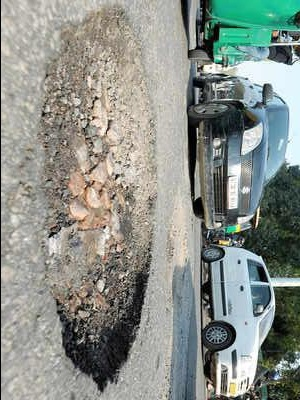pothole: (37, 2, 160, 393), (165, 197, 190, 283)
